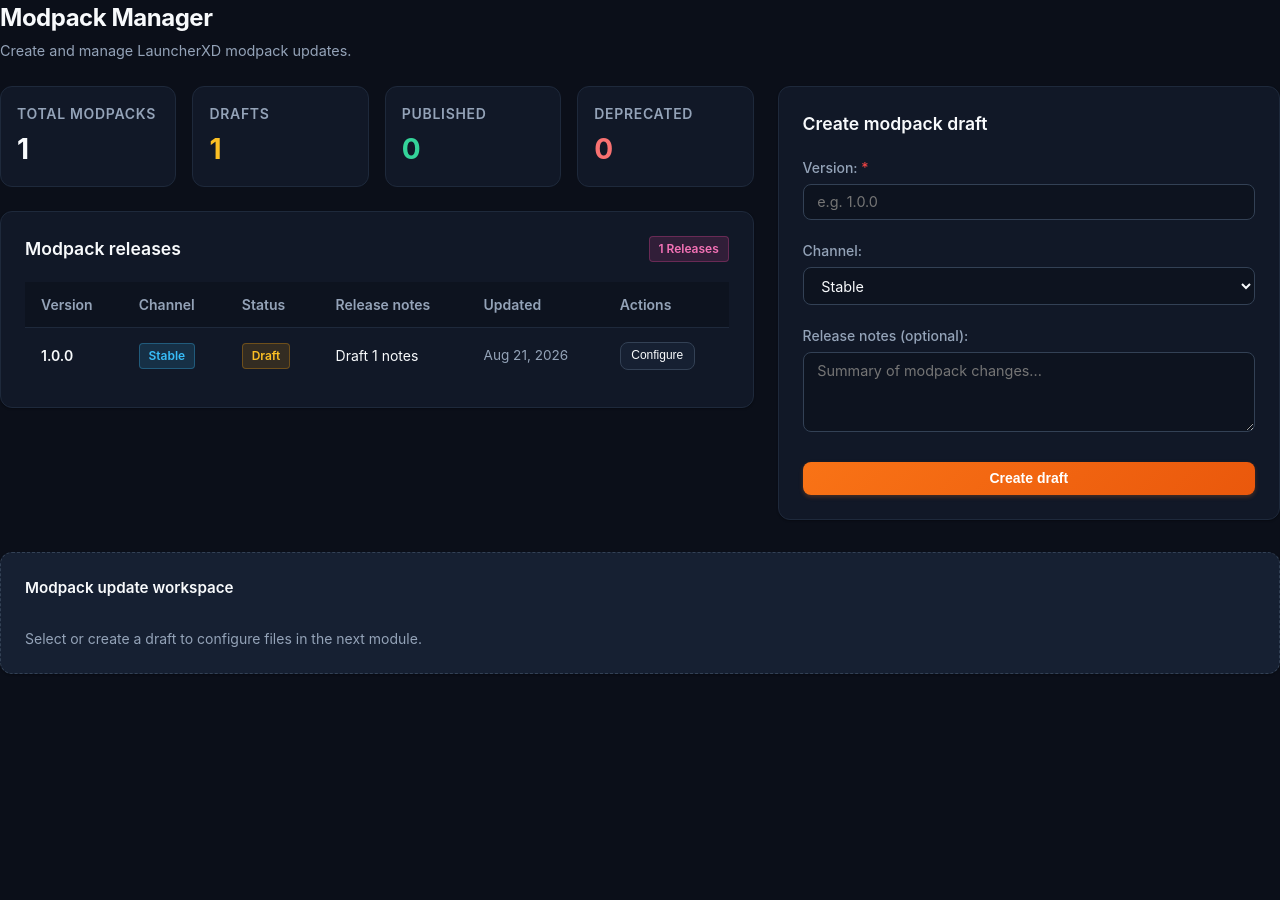
Modpack Publish & GitHub Integration UI Functional Tests (Module 3B-2) › 8. Success appears only when getRelease() returns status published
Click the button with test id "configure-modpack-modpack-draft-1" at (657, 356), box [620,342,695,370]
(page scrolled)
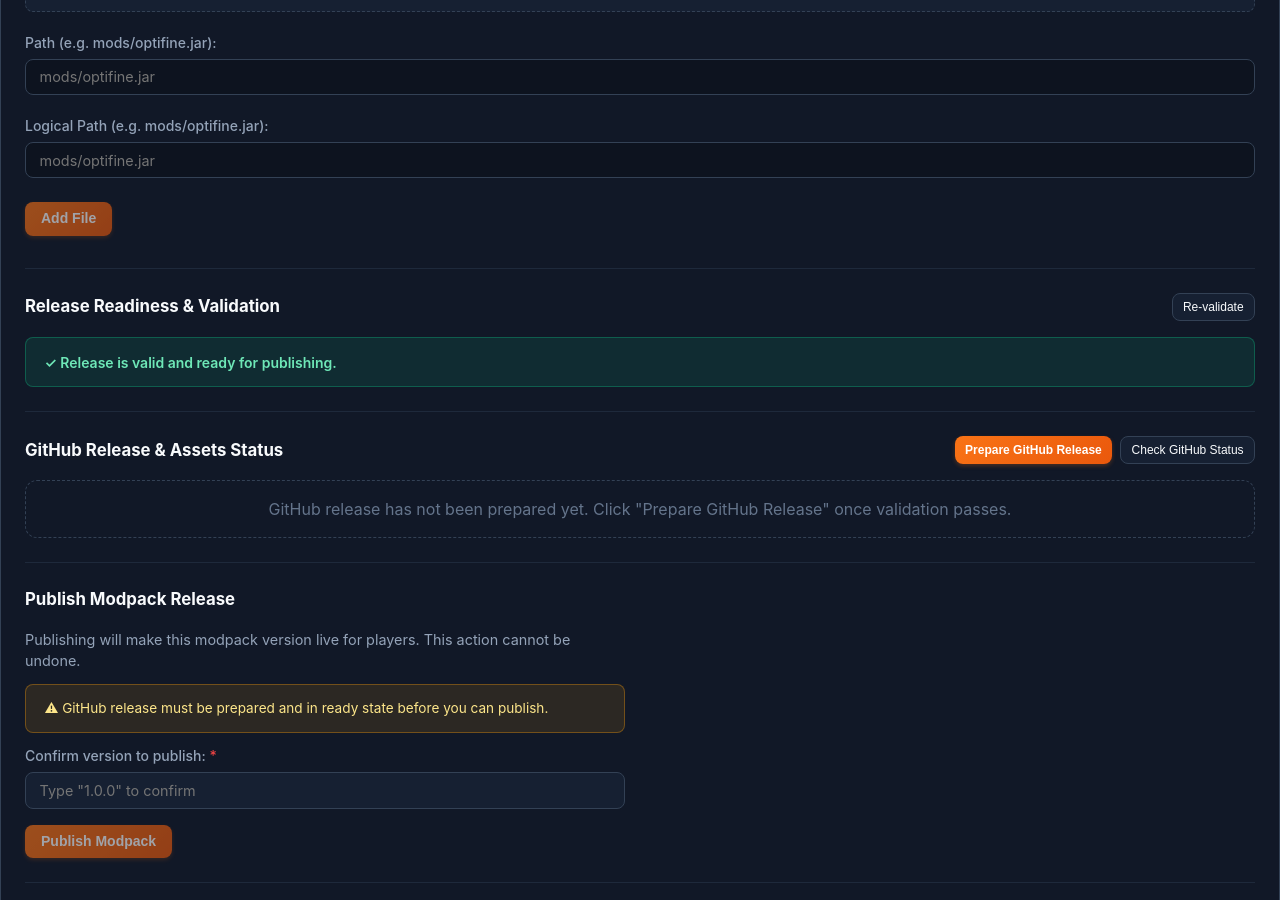
Click the button with test id "check-github-status-btn" at (1188, 450), box [1120,436,1255,464]
(page scrolled)
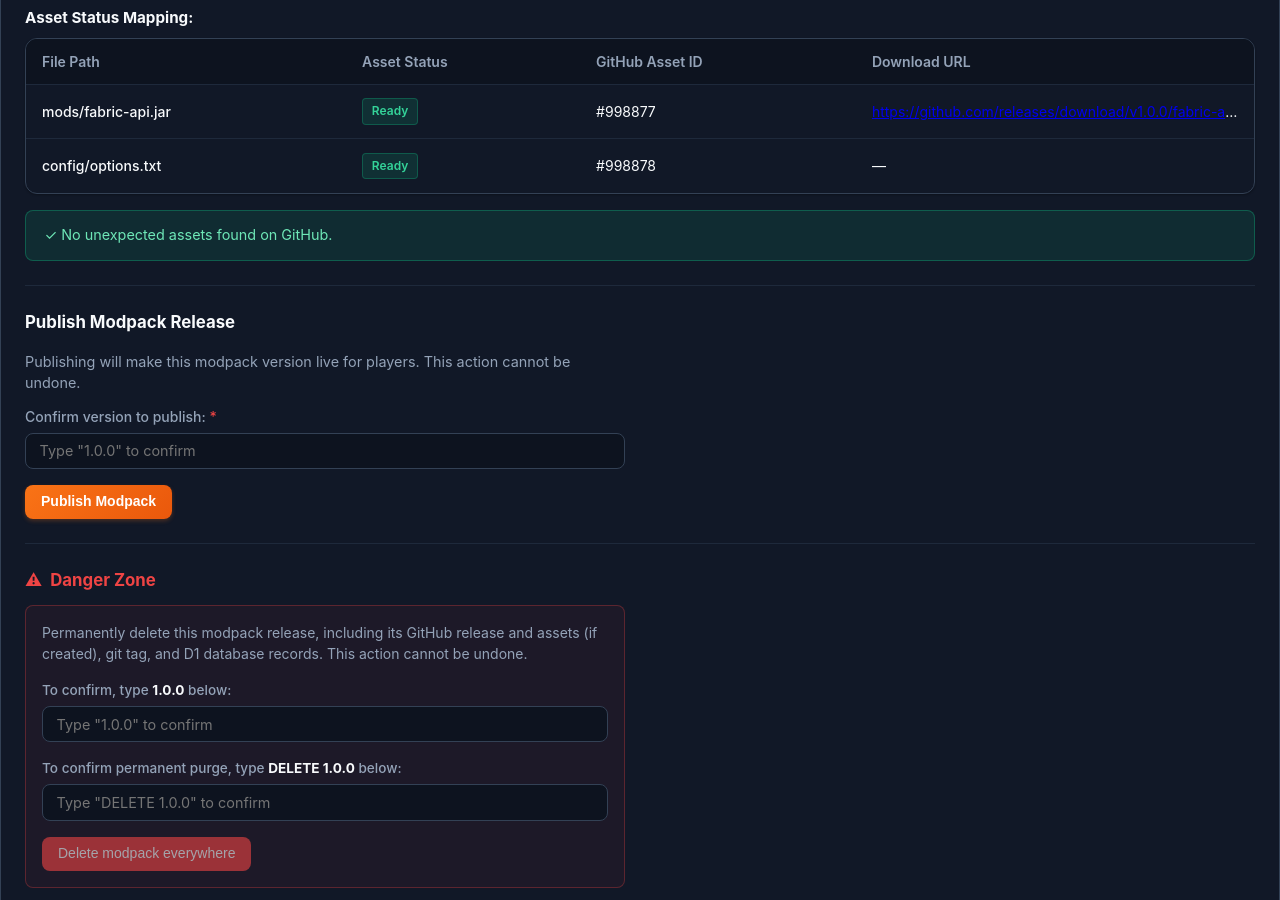
Type "1.0.0" into the field with test id "confirm-version-input" at (325, 451), box [25,433,625,469]
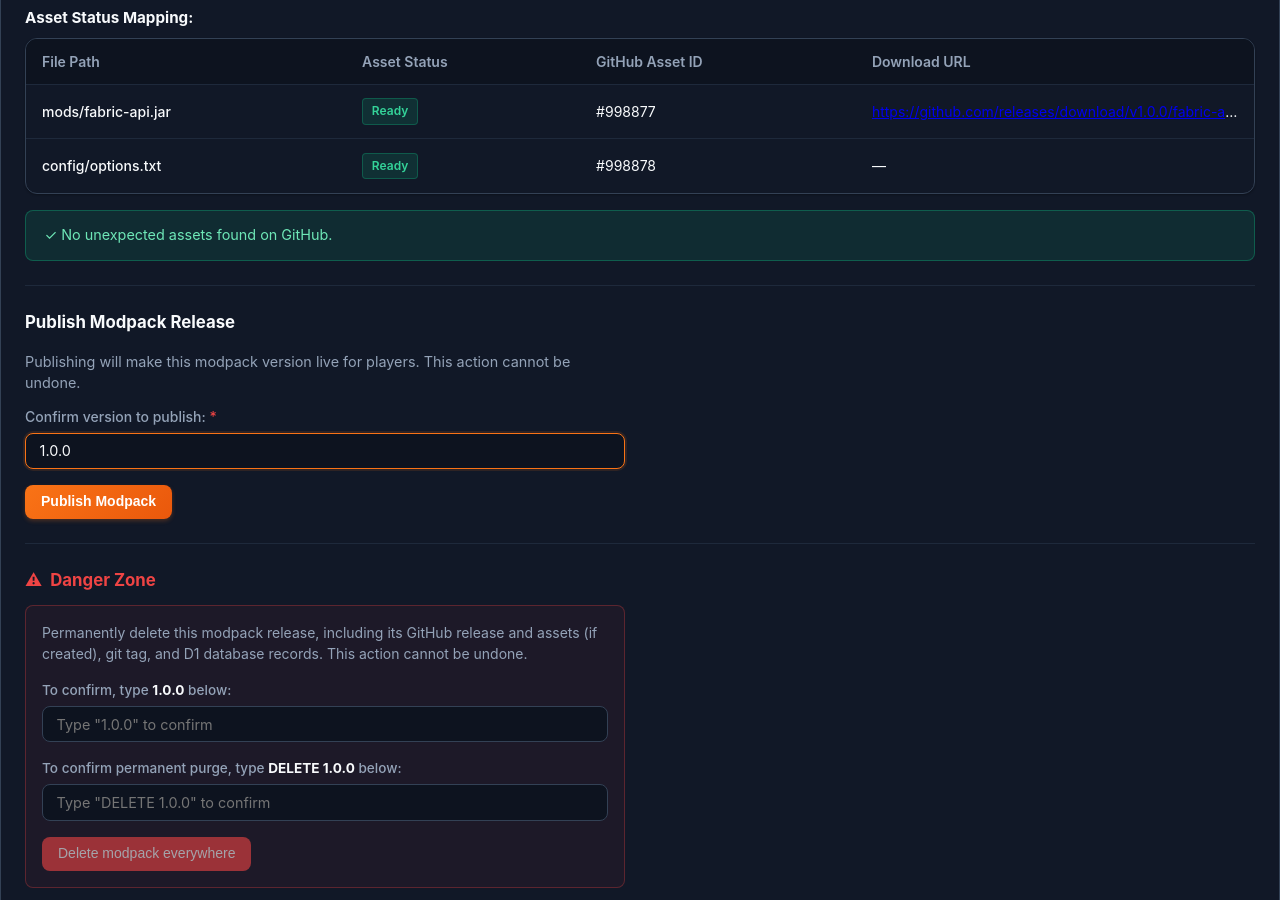
Click the button with test id "publish-release-btn" at (99, 502), box [25,485,172,519]
(page scrolled)
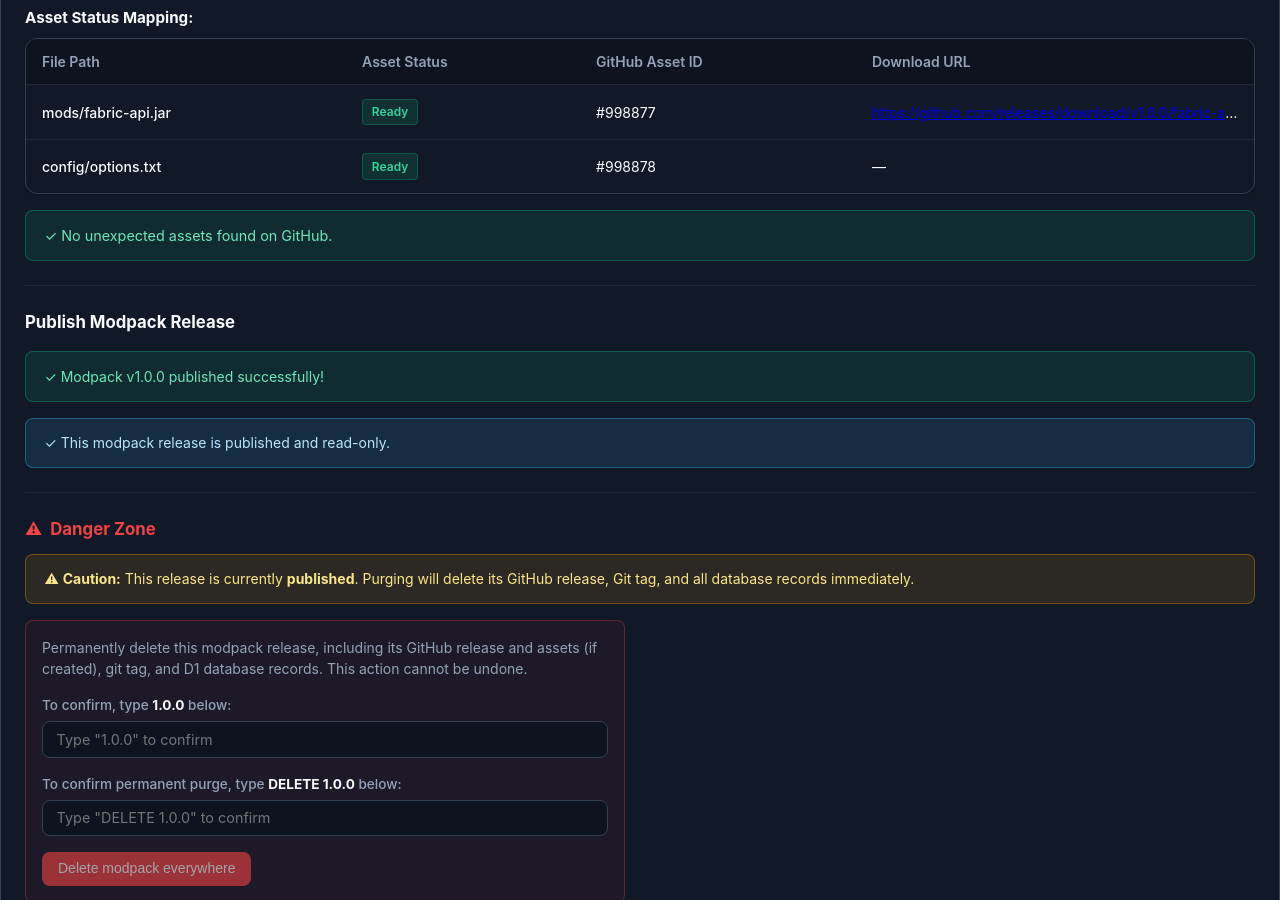
Now the message "✓ Modpack v1.0.0 published successfully!" is shown, box [25,351,1255,402]
Now the text "✓ This modpack release is published and read-only." is shown, box [25,418,1255,468]
